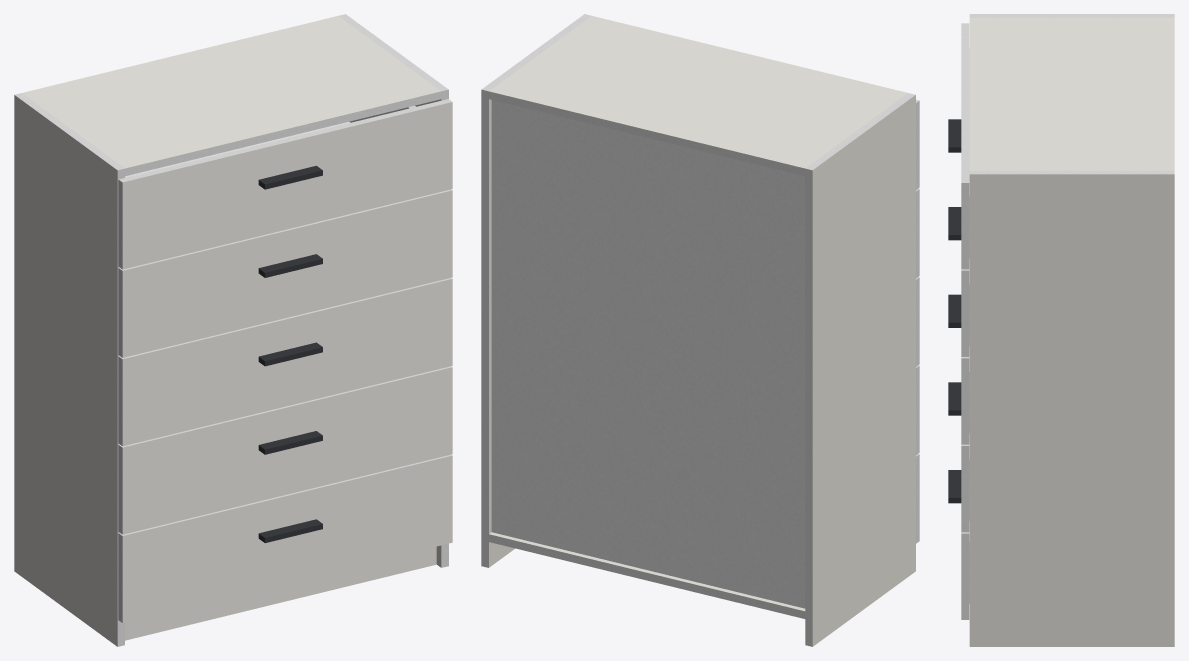
Rendered from LIT-CHT-tall.glb.
3 views of the same model, side by side, from view 1: azimuth 30°, elevation 25°; view 2: azimuth 150°, elevation 25°; view 3: azimuth 270°, elevation 25° (orthographic).
Visible parts, largest first — view 1: side-l:pbr, top:pbr, d2-front:pbr, d4-front:pbr, d1-front:pbr, d3-front:pbr, d5-front:pbr, plinth:pbr, pull, top:sheet:eyJtIjoibWRmIiwic2lkZSI6ImVkZ2UtbG9uZyIsInNlZWQiOj, d5-front:sheet:eyJtIjoibWRmIiwic2lkZSI6ImVkZ2UtbG9uZyIsInNlZ, side-l:sheet:eyJtIjoibWRmIiwic2lkZSI6ImVkZ2UtbG9uZyIsInNlZWQ (+6 smaller); view 2: back:sheet:eyJtIjoibWRmIiwic2lkZSI6ImZhY2UiLCJzZWVkIjo0LCJ0a, side-l:pbr, top:pbr, side-r:sheet:eyJtIjoibWRmIiwic2lkZSI6ImVkZ2UtbG9uZyIsInNlZWQ, side-l:sheet:eyJtIjoibWRmIiwic2lkZSI6ImVkZ2UtbG9uZyIsInNlZWQ, top:sheet:eyJtIjoibWRmIiwic2lkZSI6ImVkZ2UtbG9uZyIsInNlZWQiOj, bottom:sheet:eyJtIjoibWRmIiwic2lkZSI6ImVkZ2UtbG9uZyIsInNlZWQ, side-r:pbr, bottom:pbr, side-r:sheet:eyJtIjoibWRmIiwic2lkZSI6ImVkZ2UtZW5kIiwic2VlZCI, side-l:sheet:eyJtIjoibWRmIiwic2lkZSI6ImVkZ2UtZW5kIiwic2VlZCI; view 3: side-r:pbr, top:pbr, pull, d5-front:sheet:eyJtIjoibWRmIiwic2lkZSI6ImVkZ2UtbG9uZyIsInNlZ, side-r:sheet:eyJtIjoibWRmIiwic2lkZSI6ImVkZ2UtZW5kIiwic2VlZCI, side-l:sheet:eyJtIjoibWRmIiwic2lkZSI6ImVkZ2UtZW5kIiwic2VlZCI, d3-front:sheet:eyJtIjoibWRmIiwic2lkZSI6ImVkZ2UtZW5kIiwic2VlZ, d1-front:sheet:eyJtIjoibWRmIiwic2lkZSI6ImVkZ2UtZW5kIiwic2VlZ, d2-front:sheet:eyJtIjoibWRmIiwic2lkZSI6ImVkZ2UtZW5kIiwic2VlZ, d4-front:sheet:eyJtIjoibWRmIiwic2lkZSI6ImVkZ2UtZW5kIiwic2VlZ, d5-front:sheet:eyJtIjoibWRmIiwic2lkZSI6ImVkZ2UtZW5kIiwic2VlZ.
Boxes of the visible parts, bbox=[...] form: side-l:pbr: bbox=[14, 95, 117, 646]; top:pbr: bbox=[22, 16, 440, 168]; d2-front:pbr: bbox=[122, 367, 452, 534]; d4-front:pbr: bbox=[122, 190, 452, 357]; d1-front:pbr: bbox=[122, 455, 452, 622]; d3-front:pbr: bbox=[122, 279, 452, 446]; d5-front:pbr: bbox=[122, 102, 452, 269]; plinth:pbr: bbox=[125, 546, 436, 640]; pull: bbox=[258, 165, 322, 543]; top:sheet:eyJtIjoibWRmIiwic2lkZSI6ImVkZ2UtbG9uZyIsInNlZWQiOj: bbox=[125, 91, 441, 176]; d5-front:sheet:eyJtIjoibWRmIiwic2lkZSI6ImVkZ2UtbG9uZyIsInNlZ: bbox=[118, 99, 451, 182]; side-l:sheet:eyJtIjoibWRmIiwic2lkZSI6ImVkZ2UtbG9uZyIsInNlZWQ: bbox=[117, 168, 124, 646]; back:sheet:eyJtIjoibWRmIiwic2lkZSI6ImZhY2UiLCJzZWVkIjo0LCJ0a: bbox=[491, 100, 805, 608]; side-l:pbr: bbox=[812, 95, 915, 646]; top:pbr: bbox=[489, 16, 907, 168]; side-r:sheet:eyJtIjoibWRmIiwic2lkZSI6ImVkZ2UtbG9uZyIsInNlZWQ: bbox=[481, 89, 488, 567]; side-l:sheet:eyJtIjoibWRmIiwic2lkZSI6ImVkZ2UtbG9uZyIsInNlZWQ: bbox=[805, 168, 812, 646]; top:sheet:eyJtIjoibWRmIiwic2lkZSI6ImVkZ2UtbG9uZyIsInNlZWQiOj: bbox=[489, 91, 805, 176]; bottom:sheet:eyJtIjoibWRmIiwic2lkZSI6ImVkZ2UtbG9uZyIsInNlZWQ: bbox=[489, 534, 805, 618]; side-r:pbr: bbox=[489, 99, 514, 567]; bottom:pbr: bbox=[489, 532, 805, 611]; side-r:sheet:eyJtIjoibWRmIiwic2lkZSI6ImVkZ2UtZW5kIiwic2VlZCI: bbox=[481, 14, 591, 91]; side-l:sheet:eyJtIjoibWRmIiwic2lkZSI6ImVkZ2UtZW5kIiwic2VlZCI: bbox=[805, 93, 915, 170]; side-r:pbr: bbox=[969, 174, 1174, 646]; top:pbr: bbox=[969, 17, 1174, 170]; pull: bbox=[948, 119, 961, 503]; d5-front:sheet:eyJtIjoibWRmIiwic2lkZSI6ImVkZ2UtbG9uZyIsInNlZ: bbox=[961, 23, 969, 182]; side-r:sheet:eyJtIjoibWRmIiwic2lkZSI6ImVkZ2UtZW5kIiwic2VlZCI: bbox=[969, 170, 1174, 174]; side-l:sheet:eyJtIjoibWRmIiwic2lkZSI6ImVkZ2UtZW5kIiwic2VlZCI: bbox=[969, 14, 1174, 17]; d3-front:sheet:eyJtIjoibWRmIiwic2lkZSI6ImVkZ2UtZW5kIiwic2VlZ: bbox=[961, 358, 969, 444]; d1-front:sheet:eyJtIjoibWRmIiwic2lkZSI6ImVkZ2UtZW5kIiwic2VlZ: bbox=[961, 533, 969, 619]; d2-front:sheet:eyJtIjoibWRmIiwic2lkZSI6ImVkZ2UtZW5kIiwic2VlZ: bbox=[961, 446, 969, 532]; d4-front:sheet:eyJtIjoibWRmIiwic2lkZSI6ImVkZ2UtZW5kIiwic2VlZ: bbox=[961, 270, 969, 356]; d5-front:sheet:eyJtIjoibWRmIiwic2lkZSI6ImVkZ2UtZW5kIiwic2VlZ: bbox=[961, 183, 969, 269].
Bounding box in the file's own units: 0.8 × 1.1 × 0.4769.
109 materials, 98 textured.
